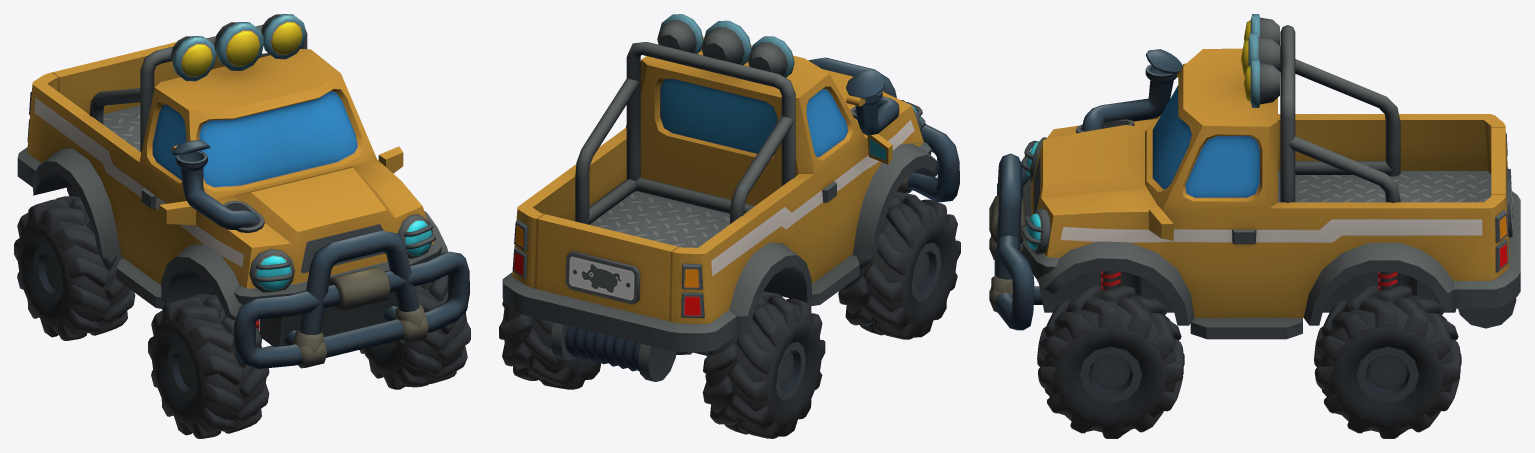
The model's file is Truck.FBX.
3 views of the same model, side by side, from view 1: azimuth 30°, elevation 25°; view 2: azimuth 150°, elevation 25°; view 3: azimuth 270°, elevation 25° (orthographic). The views are drawn at different scales.
Parts seen in each view (by area): view 1: truck_base_low, wheel_fr, wheel_br, wheel_fl; view 2: truck_base_low, wheel_br, wheel_fr, wheel_bl; view 3: truck_base_low, wheel_bl, wheel_fl.
Boxes of the visible parts, x1,y1,x2,y2 form: truck_base_low: (17, 14, 469, 368); wheel_fr: (148, 293, 269, 438); wheel_br: (14, 196, 135, 340); wheel_fl: (359, 275, 470, 389); truck_base_low: (502, 14, 959, 381); wheel_br: (702, 291, 825, 438); wheel_fr: (838, 191, 960, 339); wheel_bl: (499, 301, 601, 389); truck_base_low: (989, 14, 1520, 339); wheel_bl: (1314, 285, 1461, 438); wheel_fl: (1037, 285, 1184, 438).
Size of the model in its own units: 2.53 by 3.03 by 4.26.
